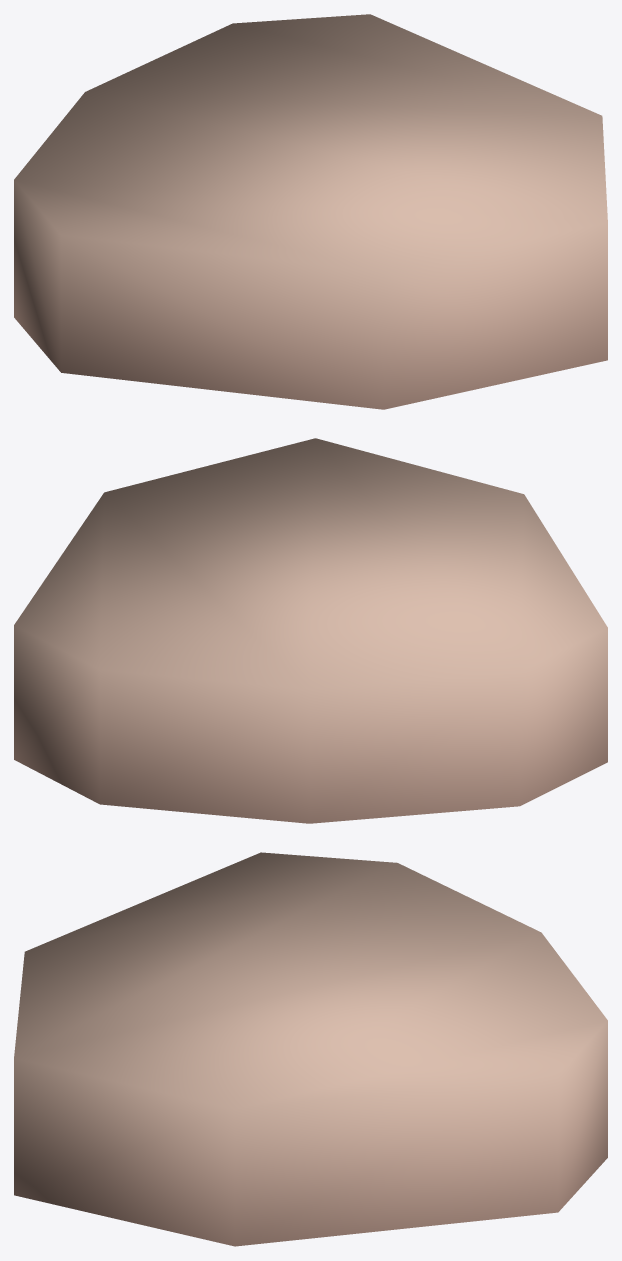
The model's file is (%no-merge) 48.glb.
3 views of the same model, one above another, from view 1: azimuth 30°, elevation 25°; view 2: azimuth 150°, elevation 25°; view 3: azimuth 270°, elevation 25° (orthographic). The views are drawn at different scales.
Visible parts, largest first — view 1: (%no-merge) 48; view 2: (%no-merge) 48; view 3: (%no-merge) 48.
Part boxes in pixels (x1,y1,x2,y2): (%no-merge) 48: [14, 14, 607, 409]; (%no-merge) 48: [14, 438, 607, 823]; (%no-merge) 48: [14, 852, 607, 1246].
Size of the model in its own units: 0.0933 by 0.0232 by 0.0912.
